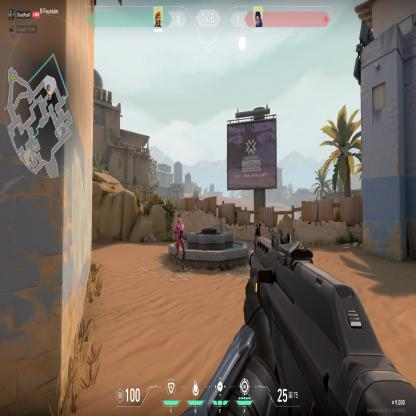enemy: (173, 212, 186, 274)
